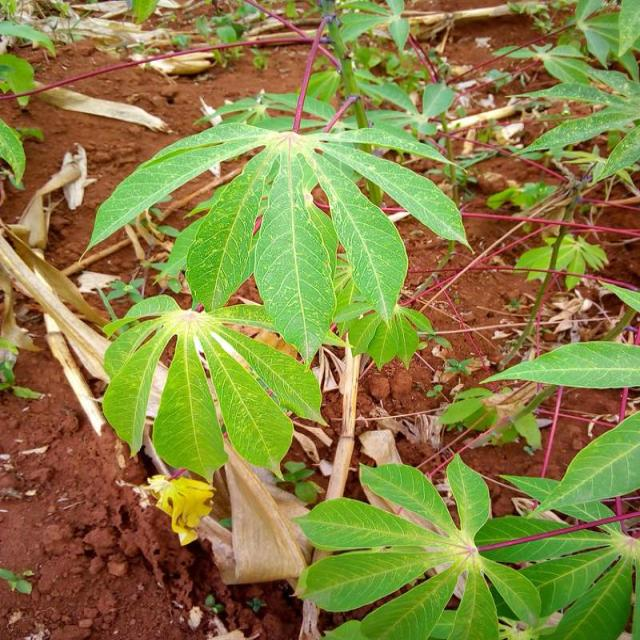cassava leaf: (88, 111, 472, 367), (101, 292, 327, 484), (481, 338, 640, 389)
